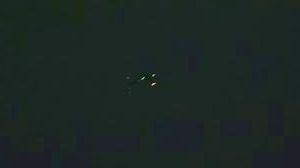Plane: (132, 69, 169, 90)
